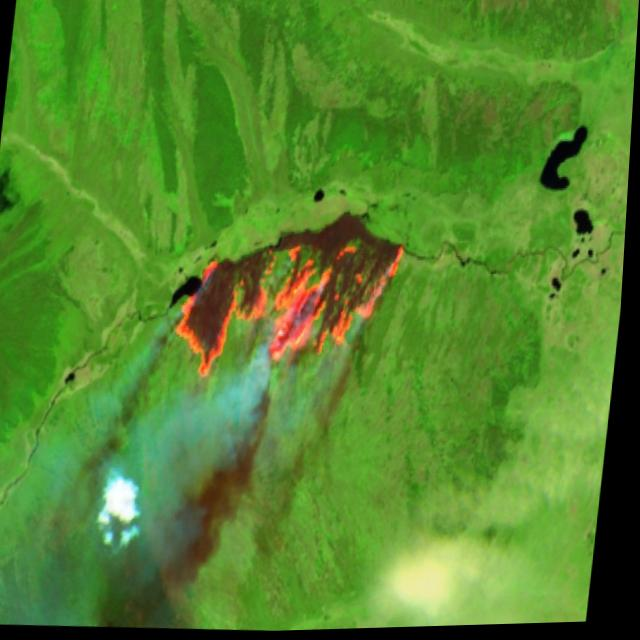fire: (171, 227, 412, 399)
